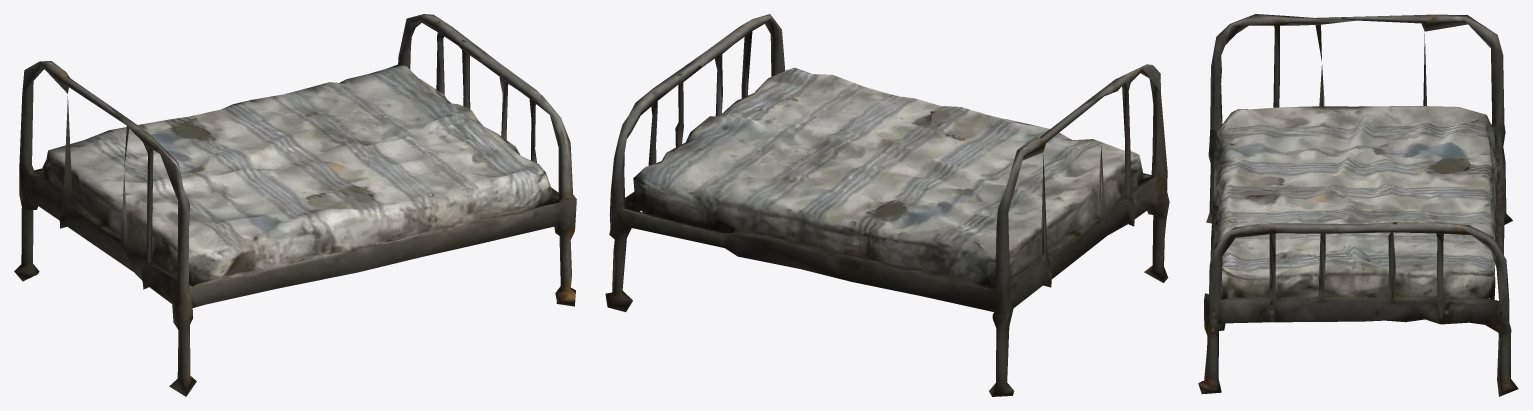
Rendered from e_bed.glb.
3 renders of one model, left to right at view 1: azimuth 30°, elevation 25°; view 2: azimuth 150°, elevation 25°; view 3: azimuth 270°, elevation 25°, orthographic. The views are drawn at different scales.
Visible parts, largest first — view 1: tripo_node_e5c07459-a1e1-4ced-99e1-f7e4e84bdb88; view 2: tripo_node_e5c07459-a1e1-4ced-99e1-f7e4e84bdb88; view 3: tripo_node_e5c07459-a1e1-4ced-99e1-f7e4e84bdb88.
Part boxes in pixels (x1=…): tripo_node_e5c07459-a1e1-4ced-99e1-f7e4e84bdb88: x1=14, y1=14, x2=576, y2=396; tripo_node_e5c07459-a1e1-4ced-99e1-f7e4e84bdb88: x1=605, y1=14, x2=1169, y2=396; tripo_node_e5c07459-a1e1-4ced-99e1-f7e4e84bdb88: x1=1198, y1=14, x2=1518, y2=396.
Bounding box in the file's own units: 1 × 0.556 × 0.7623.
Materials: 1 (1 with a texture image).
